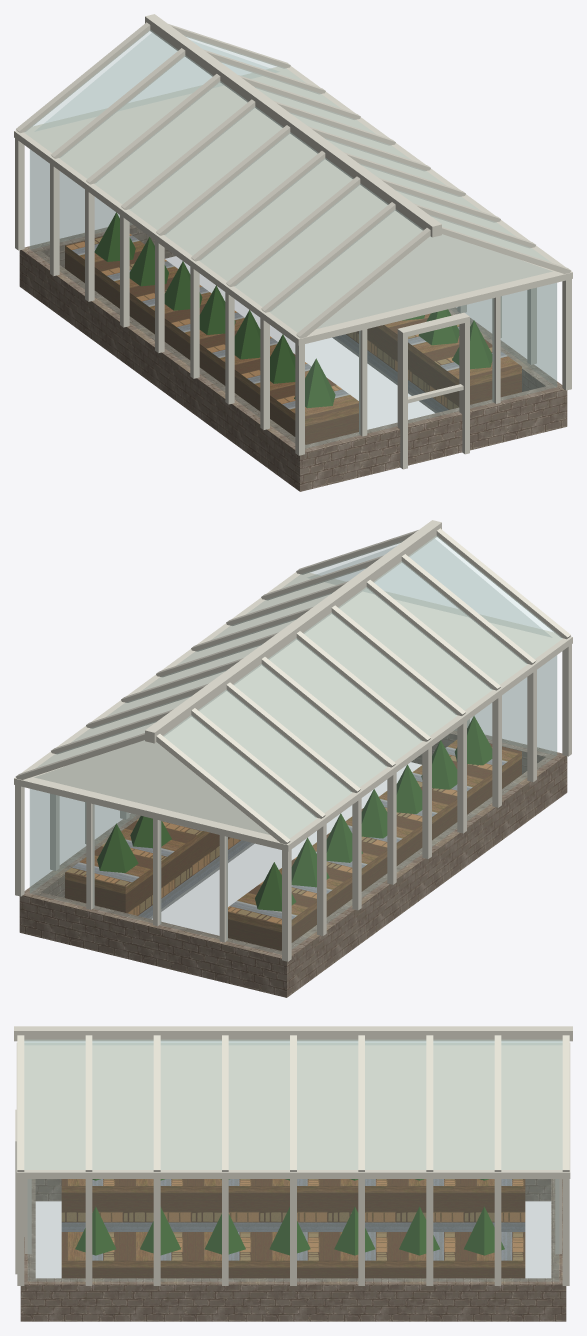
The model's file is greenhouse.glb.
The picture shows the model from 3 angles, top to bottom: view 1: azimuth 30°, elevation 25°; view 2: azimuth 150°, elevation 25°; view 3: azimuth 270°, elevation 25°; orthographic projection. The views are drawn at different scales.
Parts seen in each view (by area): view 1: Glass.005, Plate.047, Base.003, Base.001, Bench.053, Bench.061, RidgeBar.048, Base.004, Rafter.039, Rafter.011, Rafter.019, Rafter.031 (+40 smaller); view 2: Glass.005, Plate.047, Base.003, Base.002, Bench.053, Bench.061, RidgeBar.048, Base.004, Rafter.007, Rafter.015, Rafter.027, Rafter.035 (+38 smaller); view 3: Glass.005, Plate.047, Base.004, Bench.053, Bench.061, RidgeBar.048, Base.002, Base.001, Base.003, Rafter.009, Rafter.013, Rafter.017 (+25 smaller).
Part boxes in pixels (bbox=[...]): Glass.005: bbox=[24, 30, 556, 448]; Plate.047: bbox=[14, 66, 572, 345]; Base.003: bbox=[19, 249, 312, 491]; Base.001: bbox=[292, 383, 567, 491]; Bench.053: bbox=[65, 234, 358, 444]; Bench.061: bbox=[332, 313, 521, 413]; RidgeBar.048: bbox=[145, 14, 441, 237]; Base.004: bbox=[448, 307, 566, 429]; Rafter.039: bbox=[16, 22, 150, 133]; Rafter.011: bbox=[261, 202, 395, 312]; Rafter.019: bbox=[191, 151, 325, 261]; Rafter.031: bbox=[86, 74, 220, 184]; Glass.005: bbox=[30, 536, 562, 954]; Plate.047: bbox=[14, 572, 572, 851]; Base.003: bbox=[273, 751, 567, 997]; Base.002: bbox=[19, 889, 294, 997]; Bench.053: bbox=[228, 740, 521, 950]; Bench.061: bbox=[65, 818, 254, 919]; RidgeBar.048: bbox=[145, 520, 441, 743]; Base.004: bbox=[19, 813, 140, 935]; Rafter.007: bbox=[436, 528, 570, 639]; Rafter.015: bbox=[366, 580, 500, 690]; Rafter.027: bbox=[261, 657, 395, 767]; Rafter.035: bbox=[191, 708, 325, 818]; Glass.005: bbox=[24, 1040, 562, 1281]; Plate.047: bbox=[16, 1042, 570, 1178]; Base.004: bbox=[20, 1278, 566, 1321]; Bench.053: bbox=[61, 1179, 525, 1231]; Bench.061: bbox=[61, 1232, 525, 1278]; RidgeBar.048: bbox=[14, 1026, 572, 1041]; Base.002: bbox=[551, 1179, 566, 1321]; Base.001: bbox=[20, 1179, 35, 1321]; Base.003: bbox=[35, 1179, 551, 1201]; Rafter.009: bbox=[17, 1035, 24, 1171]; Rafter.013: bbox=[85, 1035, 92, 1171]; Rafter.017: bbox=[153, 1035, 160, 1171].
Size of the model in its own units: 4.52 by 3.72 by 8.2.
5 materials, 2 textured.
